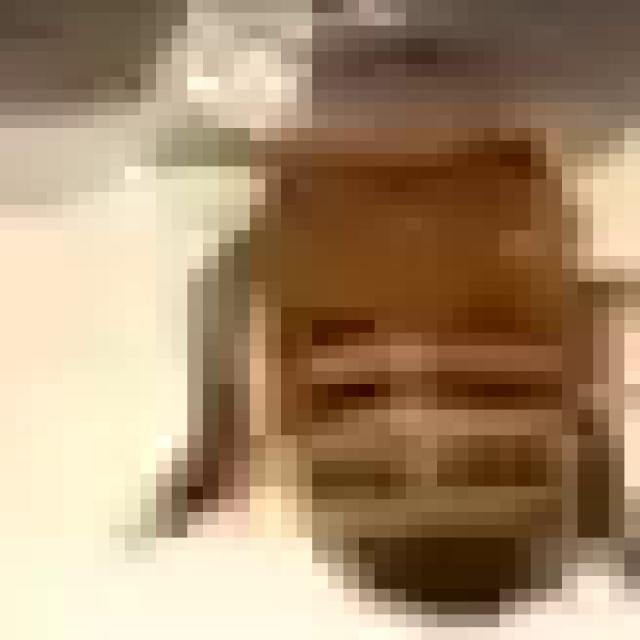honeybee: (156, 13, 640, 640)
